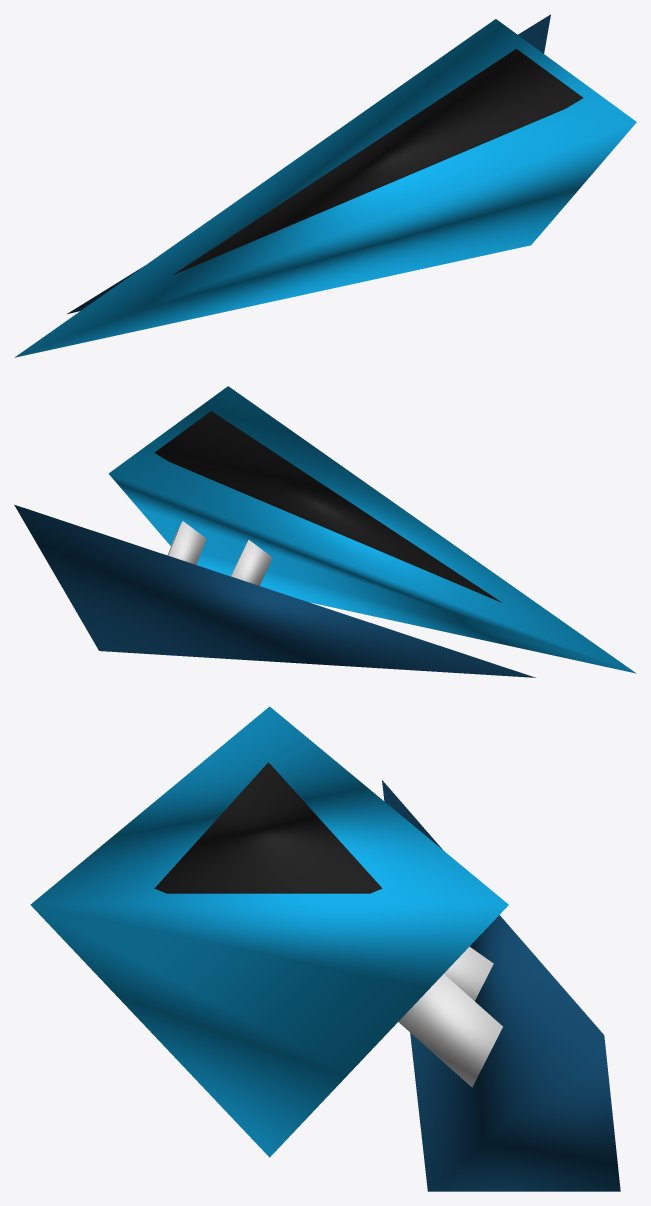
The model's file is lightCar2.dae.
The picture shows the model from 3 angles, top to bottom: view 1: azimuth 30°, elevation 25°; view 2: azimuth 150°, elevation 25°; view 3: azimuth 270°, elevation 25°; orthographic projection. The views are drawn at different scales.
Visible parts, largest first — view 1: Corpo, Visor, Estruturas_laterais; view 2: Corpo, Estruturas_laterais, Visor, Junçao; view 3: Corpo, Estruturas_laterais, Visor, Junçao.
Part boxes in pixels (x1,y1,x2,y2): Corpo: (15,19,636,357); Visor: (173,49,583,274); Estruturas_laterais: (67,14,550,313); Corpo: (108,386,636,673); Estruturas_laterais: (14,504,535,677); Visor: (154,411,501,602); Junçao: (167,521,272,585); Corpo: (30,706,508,1157); Estruturas_laterais: (382,780,620,1191); Visor: (154,762,382,893); Junçao: (398,946,502,1087).
Size of the model in its own units: 3.81 by 1.81 by 1.04.
